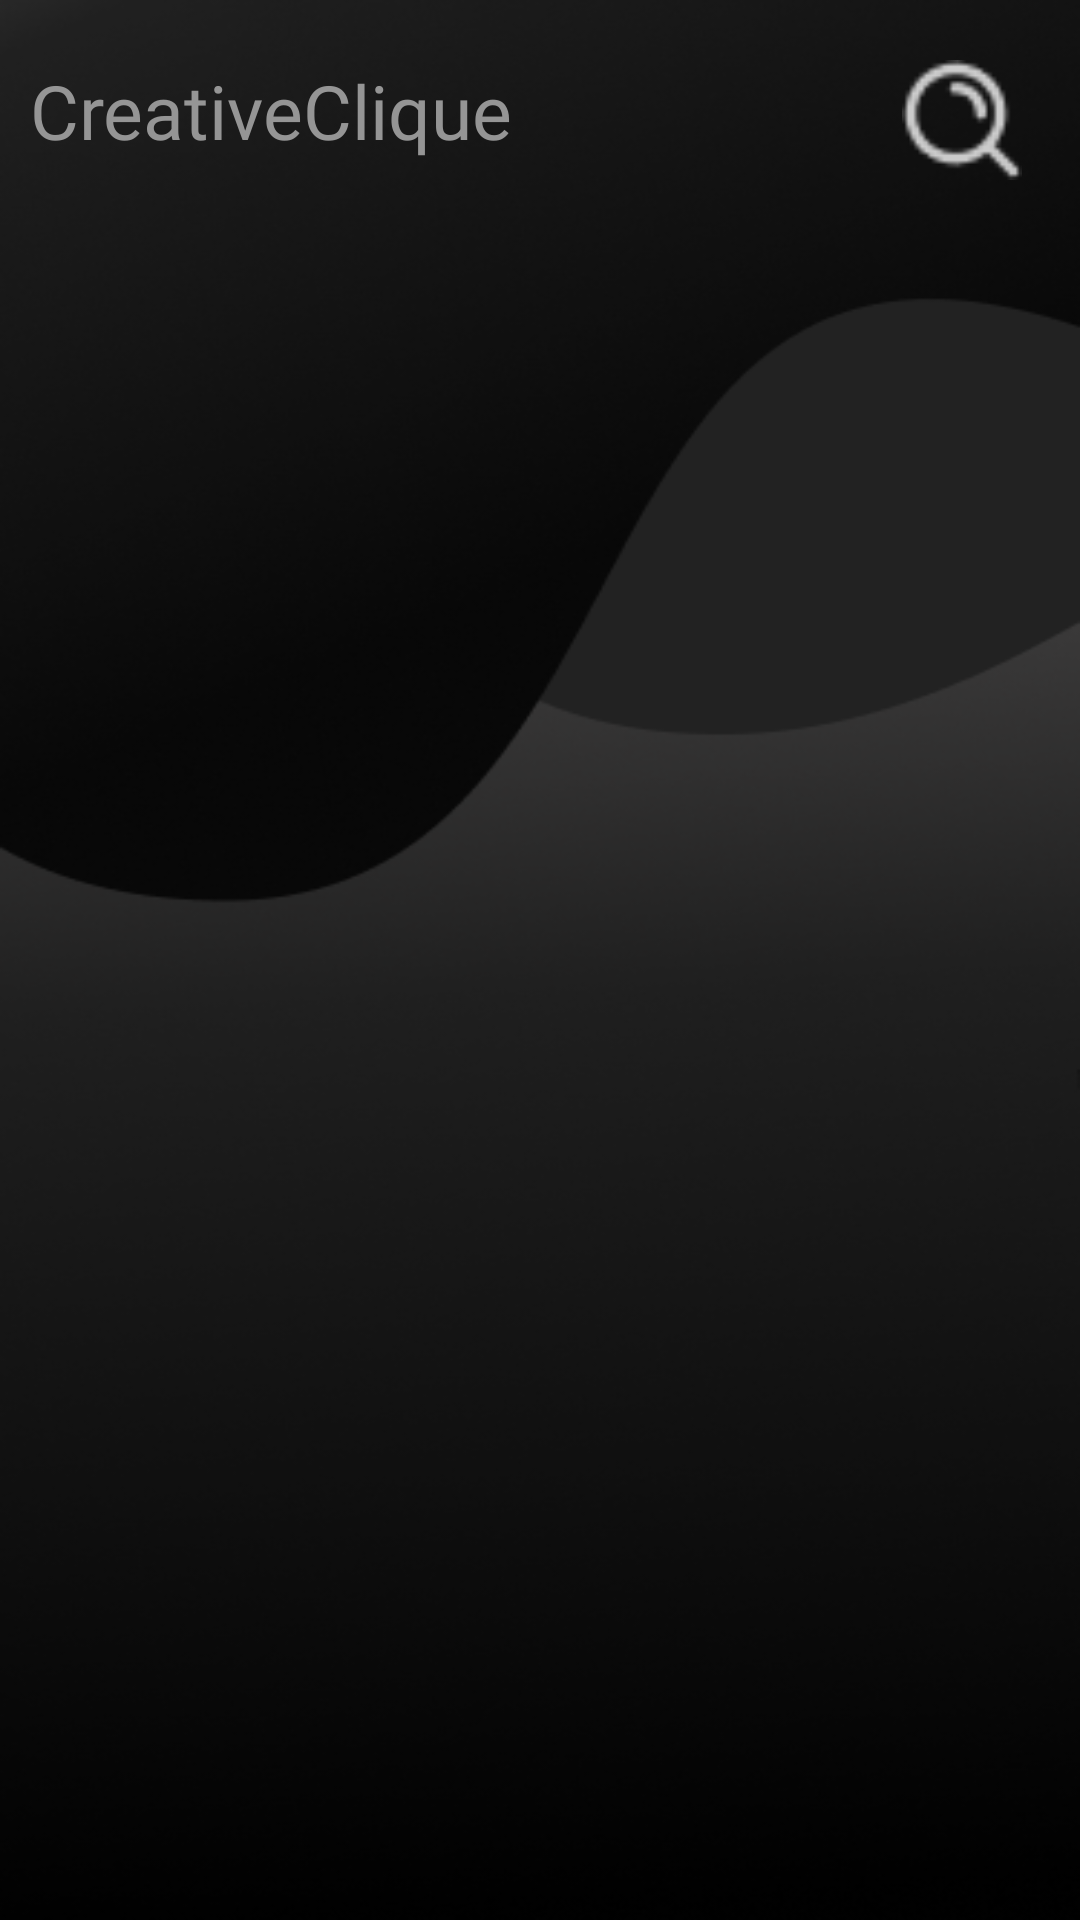

Named icons in this screenshot (1080 × 1920) and their centers, (x,y):
searchiconf: (961,119)
